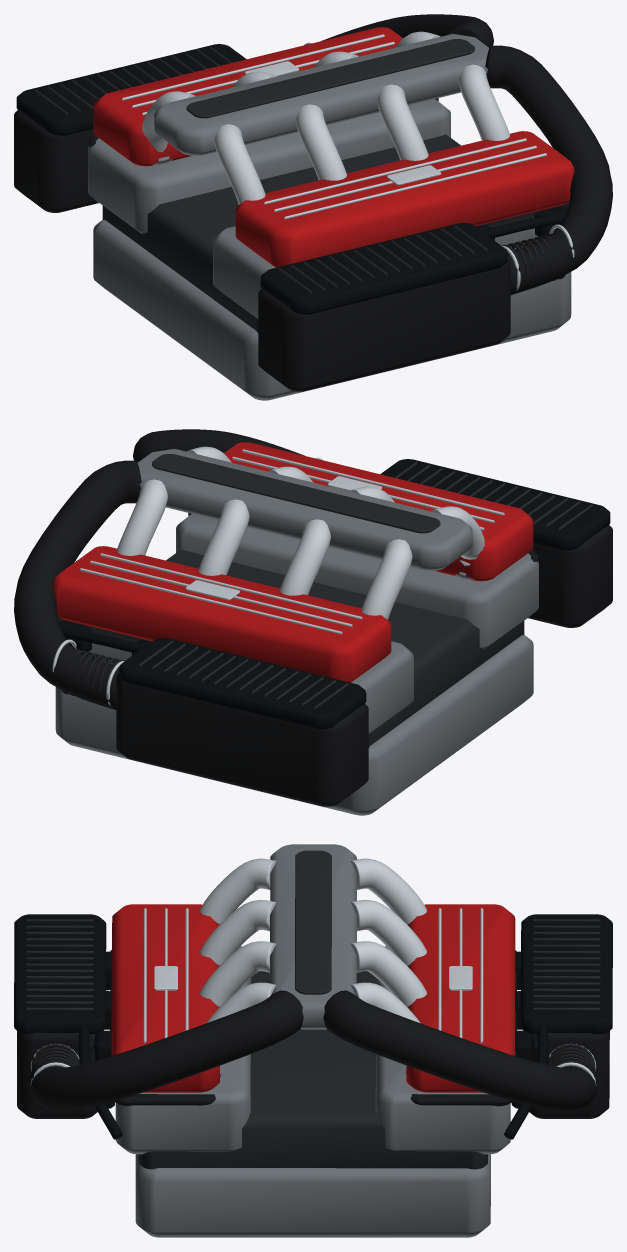
File: engine-exterior.glb
3 views of the same model, one above another, from view 1: azimuth 30°, elevation 25°; view 2: azimuth 150°, elevation 25°; view 3: azimuth 270°, elevation 25° (orthographic). The views are drawn at different scales.
Parts seen in each view (by area): view 1: D_BAY_red_cam_cover_-1, D_BAY_airbox_-1, D_BAY_crankcase, D_BAY_cylinder_bank_1, D_BAY_intake_hose_-1, D_BAY_central_intake_plenum, D_BAY_eight_intake_runners, D_BAY_airbox_lid_-1, D_BAY_upper_V8_casting, D_BAY_red_cam_cover_1, D_BAY_airbox_1, D_BAY_airbox_lid_1 (+8 smaller); view 2: D_BAY_red_cam_cover_1, D_BAY_airbox_1, D_BAY_crankcase, D_BAY_cylinder_bank_-1, D_BAY_intake_hose_1, D_BAY_central_intake_plenum, D_BAY_eight_intake_runners, D_BAY_airbox_lid_1, D_BAY_upper_V8_casting, D_BAY_red_cam_cover_-1, D_BAY_airbox_-1, D_BAY_airbox_lid_-1 (+8 smaller); view 3: D_BAY_crankcase, D_BAY_upper_V8_casting, D_BAY_eight_intake_runners, D_BAY_red_cam_cover_1, D_BAY_red_cam_cover_-1, D_BAY_intake_hose_-1, D_BAY_intake_hose_1, D_BAY_airbox_lid_-1, D_BAY_airbox_lid_1, D_BAY_central_intake_plenum, D_BAY_airbox_ribbing, D_BAY_cylinder_bank_-1 (+12 smaller).
Part boxes in pixels (box(x1,y1,x2,y2)): D_BAY_red_cam_cover_-1: box(235, 131, 574, 267); D_BAY_airbox_-1: box(258, 259, 510, 391); D_BAY_crankcase: box(93, 219, 571, 400); D_BAY_cylinder_bank_1: box(88, 99, 450, 233); D_BAY_intake_hose_-1: box(485, 45, 612, 294); D_BAY_central_intake_plenum: box(154, 34, 489, 155); D_BAY_eight_intake_runners: box(142, 31, 509, 204); D_BAY_airbox_lid_-1: box(260, 223, 507, 314); D_BAY_upper_V8_casting: box(102, 134, 460, 332); D_BAY_red_cam_cover_1: box(93, 27, 402, 166); D_BAY_airbox_1: box(14, 110, 98, 212); D_BAY_airbox_lid_1: box(16, 44, 246, 136); D_BAY_red_cam_cover_1: box(52, 546, 391, 682); D_BAY_airbox_1: box(116, 673, 368, 806); D_BAY_crankcase: box(55, 634, 533, 815); D_BAY_cylinder_bank_-1: box(176, 514, 538, 648); D_BAY_intake_hose_1: box(14, 460, 141, 709); D_BAY_central_intake_plenum: box(137, 449, 472, 570); D_BAY_eight_intake_runners: box(117, 446, 484, 619); D_BAY_airbox_lid_1: box(119, 638, 366, 729); D_BAY_upper_V8_casting: box(166, 549, 524, 747); D_BAY_red_cam_cover_-1: box(224, 442, 533, 581); D_BAY_airbox_-1: box(528, 525, 612, 627); D_BAY_airbox_lid_-1: box(380, 459, 610, 551); D_BAY_crankcase: box(135, 1154, 490, 1237); D_BAY_upper_V8_casting: box(138, 971, 487, 1169); D_BAY_eight_intake_runners: box(200, 858, 426, 1023); D_BAY_red_cam_cover_1: box(406, 904, 515, 1092); D_BAY_red_cam_cover_-1: box(111, 904, 219, 1092); D_BAY_intake_hose_-1: box(29, 990, 303, 1111); D_BAY_intake_hose_1: box(323, 990, 597, 1111); D_BAY_airbox_lid_-1: box(14, 914, 106, 1034); D_BAY_airbox_lid_1: box(520, 914, 612, 1034); D_BAY_central_intake_plenum: box(270, 844, 357, 1029); D_BAY_airbox_ribbing: box(26, 919, 600, 1010); D_BAY_cylinder_bank_-1: box(115, 946, 251, 1154).
Bounding box in the file's own units: 0.7424 × 0.4469 × 1.
